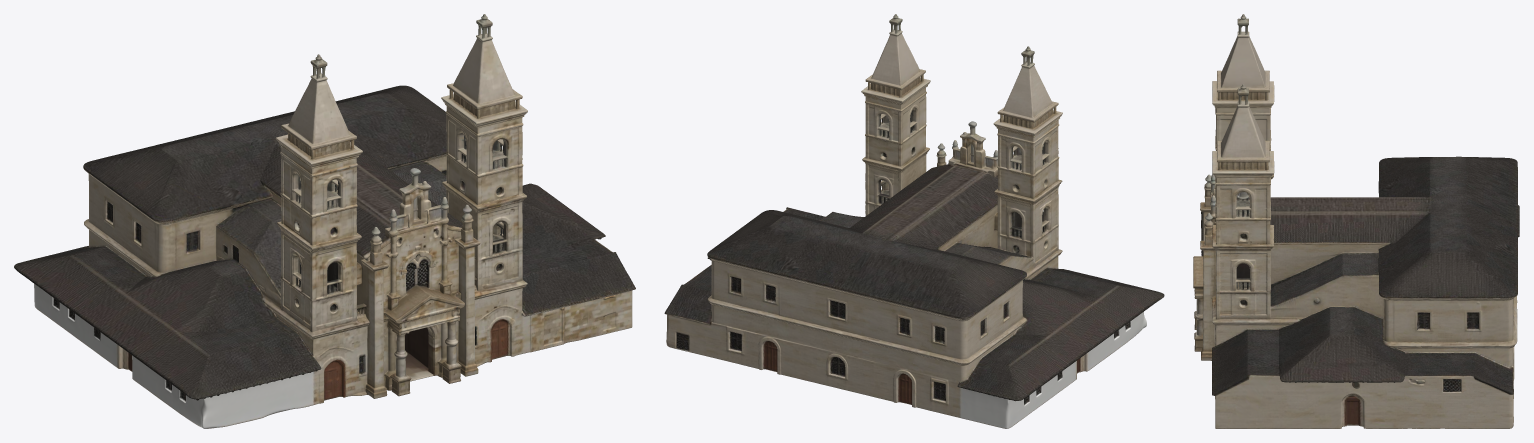
Rendered from 19-el-aguacero-optimized.glb.
3 views of the same model, side by side, from view 1: azimuth 30°, elevation 25°; view 2: azimuth 150°, elevation 25°; view 3: azimuth 270°, elevation 25° (orthographic). The views are drawn at different scales.
Visible parts, largest first — view 1: tripo_node_0c0286cc-9095-49a5-a85f-a67e32e4e189; view 2: tripo_node_0c0286cc-9095-49a5-a85f-a67e32e4e189; view 3: tripo_node_0c0286cc-9095-49a5-a85f-a67e32e4e189.
Part boxes in pixels (x1,y1,x2,y2): tripo_node_0c0286cc-9095-49a5-a85f-a67e32e4e189: (14, 14, 635, 428); tripo_node_0c0286cc-9095-49a5-a85f-a67e32e4e189: (664, 14, 1164, 428); tripo_node_0c0286cc-9095-49a5-a85f-a67e32e4e189: (1193, 14, 1519, 428).
Bounding box in the file's own units: 1 × 0.6969 × 0.7107.
1 material, 1 textured.
